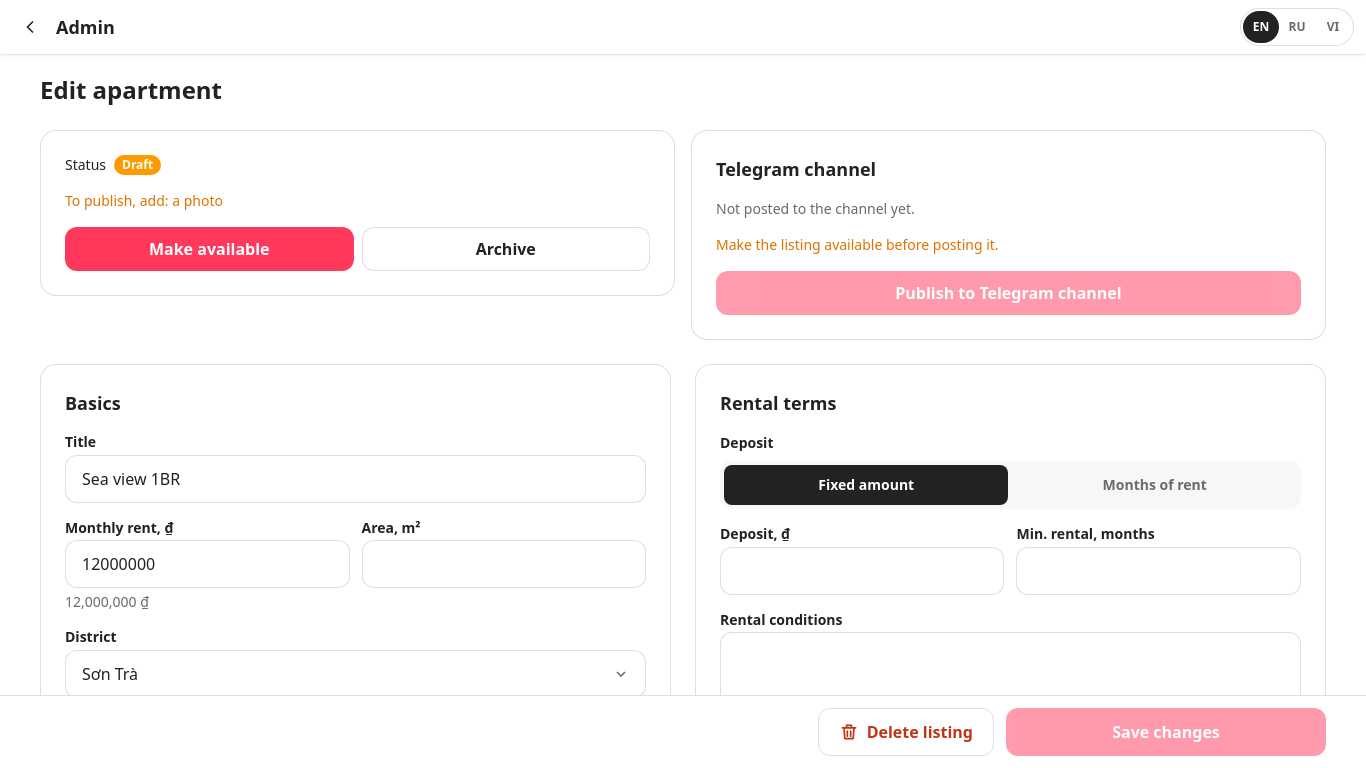
Scenario: listing form › explains why a listing cannot be published yet
Expected: the text "To publish, add: a photo" is shown, 65,191 -> 223,210
Click the button "Make available".
click(209, 249)  # box 65,227 -> 354,271
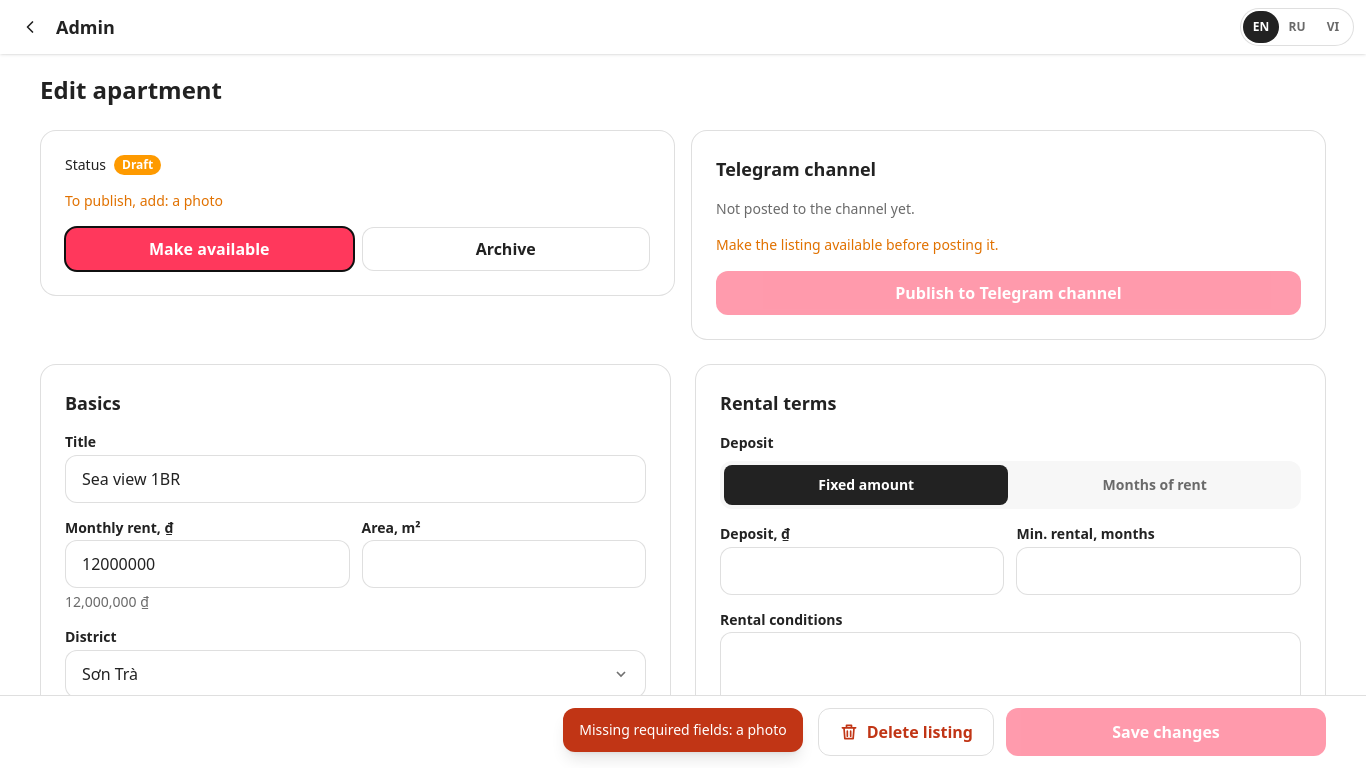
Expected: the message reads "Missing required fields: a photo", 579,720 -> 787,739
